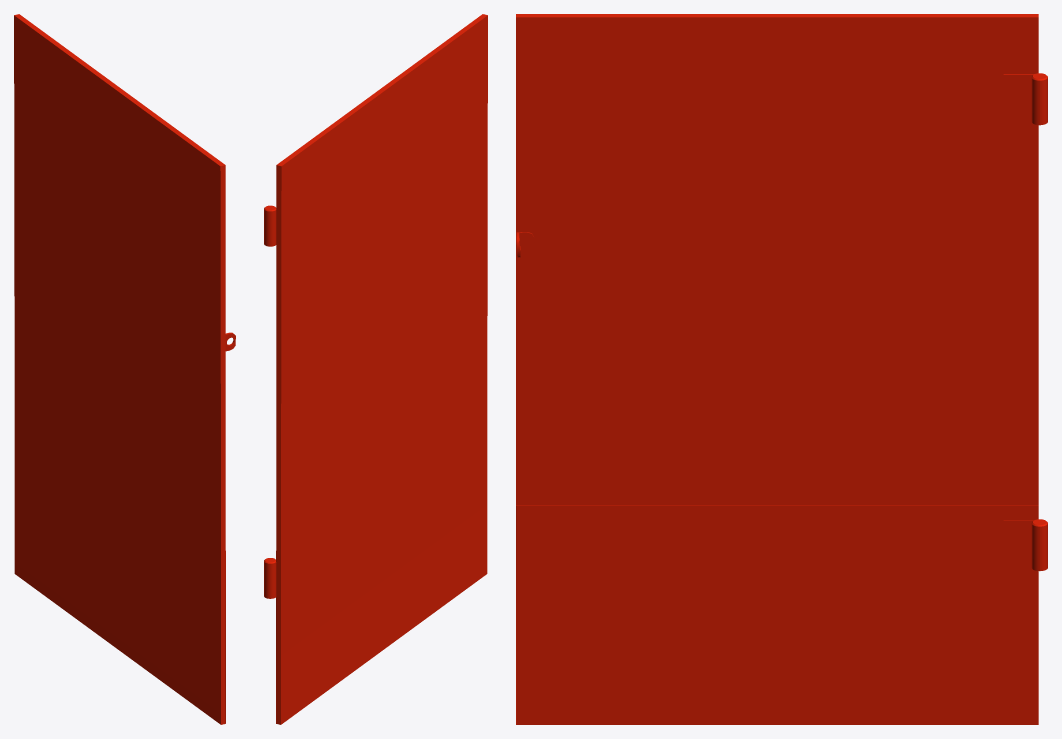
The model's file is GDoorR.fbx.
The picture shows the model from 3 angles, left to right: view 1: azimuth 30°, elevation 25°; view 2: azimuth 150°, elevation 25°; view 3: azimuth 270°, elevation 25°; orthographic projection. The views are drawn at different scales.
Visible parts, largest first — view 1: Cube.009; view 2: Cube.009; view 3: Cube.009.
Part boxes in pixels (x1,y1,x2,y2): Cube.009: (14,14,235,724); Cube.009: (264,14,487,724); Cube.009: (516,14,1047,724).
Size of the model in its own units: 12.05 by 396 by 270.
